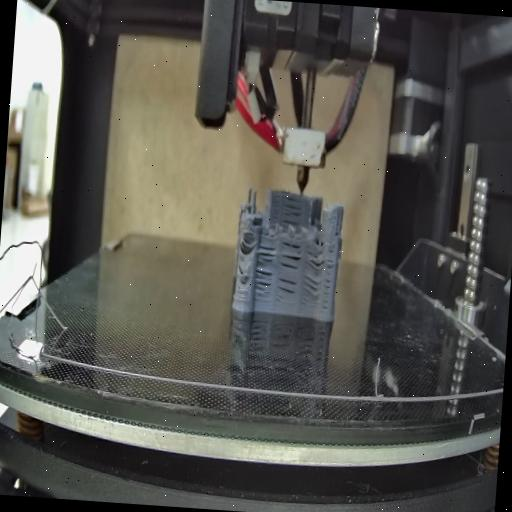cracks: (321, 246, 334, 314), (276, 241, 302, 272), (280, 196, 304, 227), (274, 277, 298, 304), (300, 276, 320, 306), (257, 240, 278, 266), (254, 268, 272, 298), (305, 249, 325, 271), (238, 234, 256, 256), (237, 263, 249, 284), (332, 226, 340, 238)
